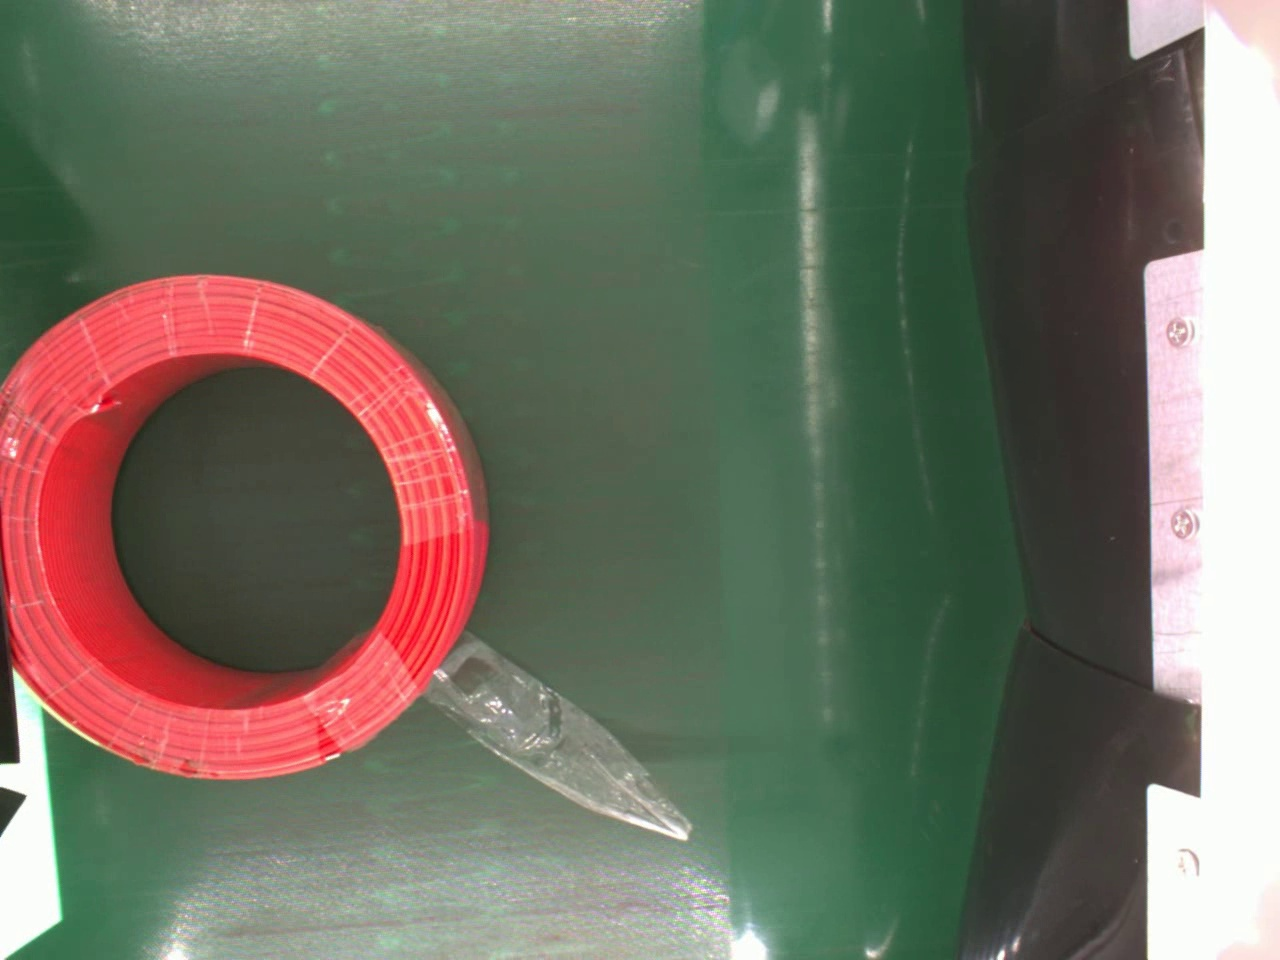red: (0, 270, 487, 785)
